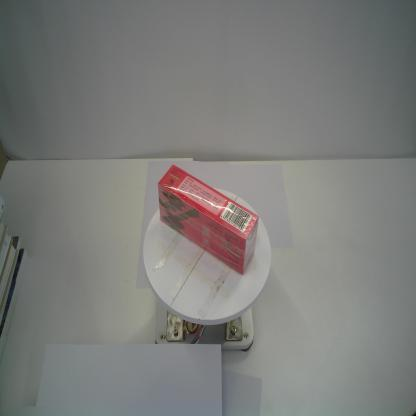Instant Drink: (158, 165, 260, 276)
